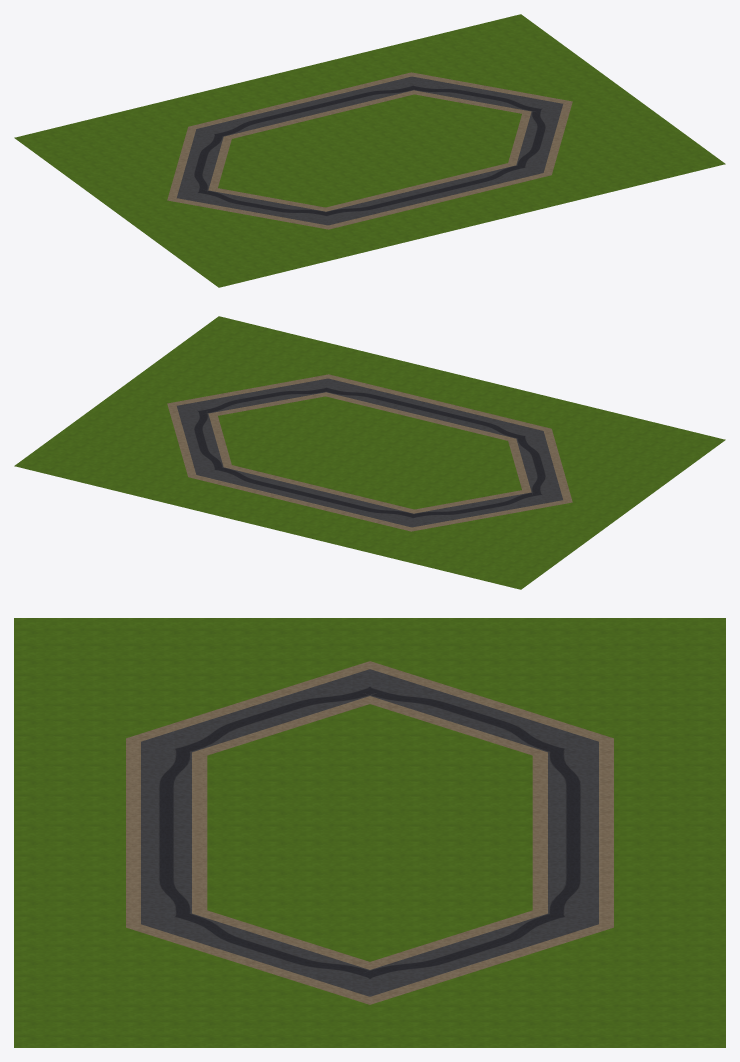
File: track.glb
3 renders of one model, top to bottom at view 1: azimuth 30°, elevation 25°; view 2: azimuth 150°, elevation 25°; view 3: azimuth 270°, elevation 25°, orthographic. The views are drawn at different scales.
Parts seen in each view (by area): view 1: surface_grass, surface_asphalt, surface_dirt, racing_line; view 2: surface_grass, surface_asphalt, surface_dirt, racing_line; view 3: surface_grass, surface_asphalt, surface_dirt, racing_line.
Part boxes in pixels (x1,y1,x2,y2): surface_grass: (14, 14, 725, 287); surface_asphalt: (177, 76, 562, 225); surface_dirt: (167, 72, 572, 229); racing_line: (194, 85, 545, 216); surface_grass: (14, 316, 725, 589); surface_asphalt: (177, 378, 562, 527); surface_dirt: (167, 374, 572, 531); racing_line: (194, 387, 545, 518); surface_grass: (14, 618, 725, 1047); surface_asphalt: (141, 669, 598, 996); surface_dirt: (126, 661, 613, 1004); racing_line: (158, 686, 581, 979).
Bounding box in the file's own units: 200 × 0.02 × 140.
Materials: 4 (4 with a texture image).
